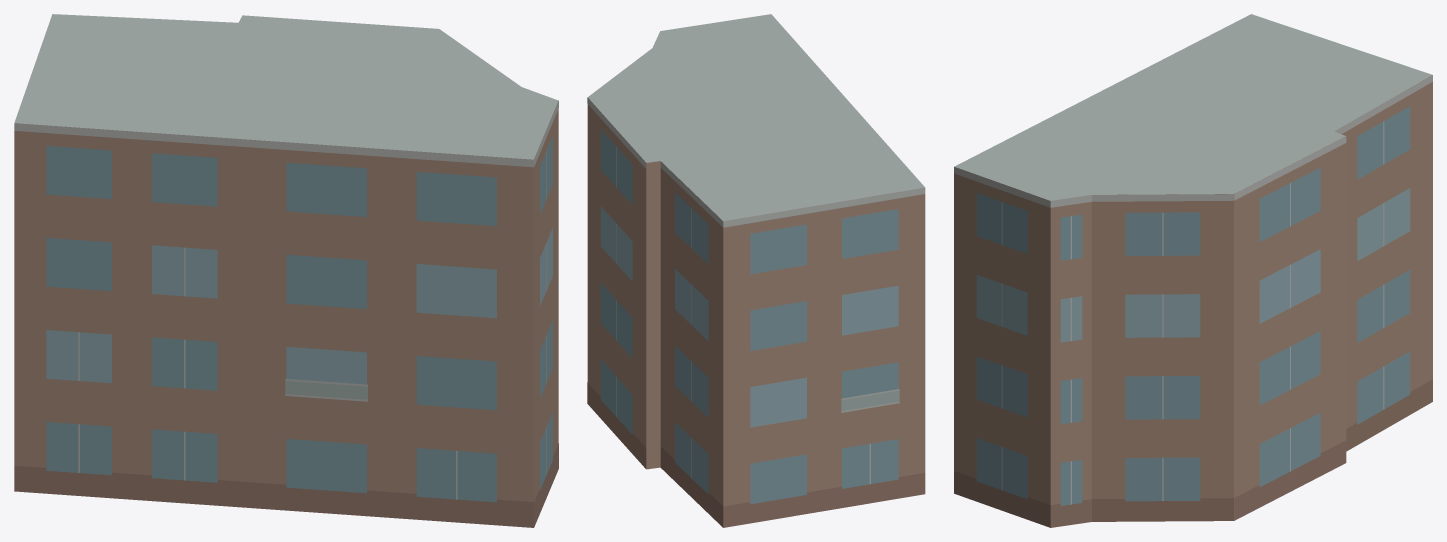
Rendered from survey-upis-32687932.glb.
The picture shows the model from 3 angles, left to right: view 1: azimuth 30°, elevation 25°; view 2: azimuth 150°, elevation 25°; view 3: azimuth 270°, elevation 25°; orthographic projection. The views are drawn at different scales.
Parts seen in each view (by area): view 1: survey-upis-32687932.tmp; view 2: survey-upis-32687932.tmp; view 3: survey-upis-32687932.tmp.
Part boxes in pixels (x1,y1,x2,y2): survey-upis-32687932.tmp: [14, 14, 558, 527]; survey-upis-32687932.tmp: [587, 14, 925, 527]; survey-upis-32687932.tmp: [954, 14, 1432, 527].
Bounding box in the file's own units: 14.36 × 11.7 × 15.54.
